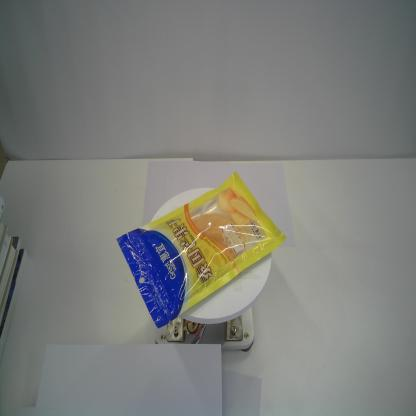Dried Fruit: (116, 171, 288, 329)
